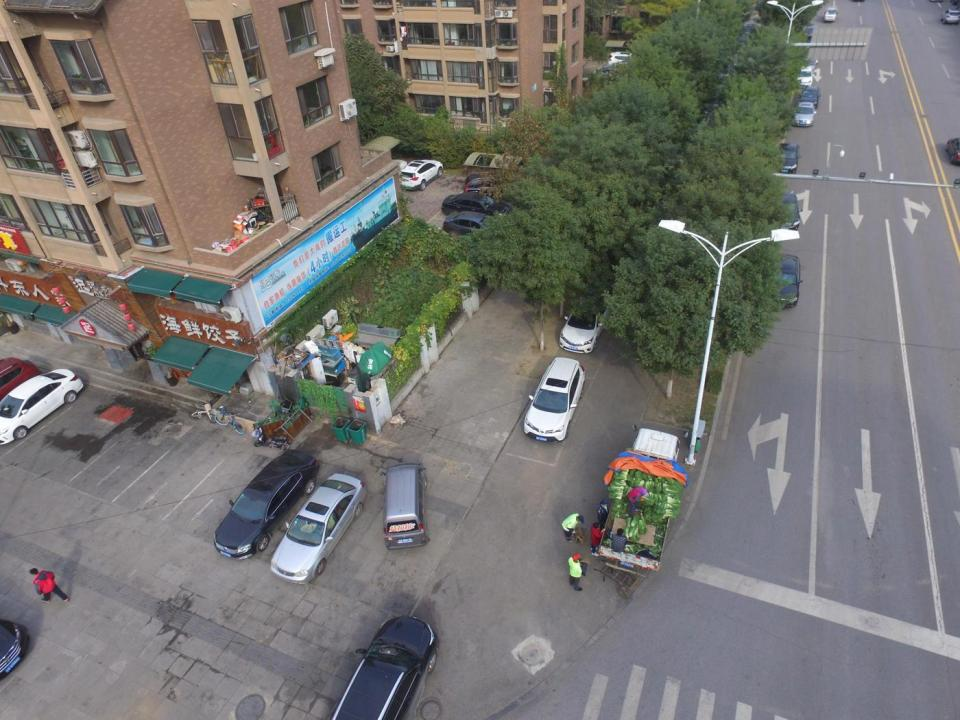car: (329, 614, 444, 720), (214, 453, 322, 562), (271, 473, 365, 584), (0, 368, 85, 444), (520, 357, 586, 443), (556, 294, 612, 352), (443, 212, 507, 249), (764, 254, 801, 310), (0, 355, 35, 414), (440, 190, 504, 221), (464, 172, 524, 204), (396, 158, 445, 192), (770, 192, 800, 234), (607, 51, 652, 77), (771, 141, 799, 174), (791, 62, 814, 89), (792, 103, 816, 126), (799, 86, 819, 108), (941, 10, 960, 26), (822, 6, 838, 24), (948, 136, 960, 160)
van: (380, 466, 431, 550)
